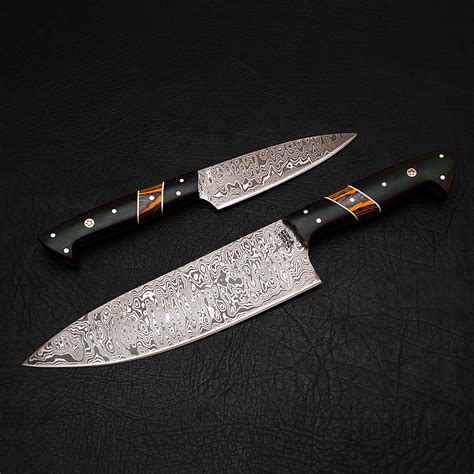knife: (20, 151, 456, 370), (37, 131, 359, 263)
